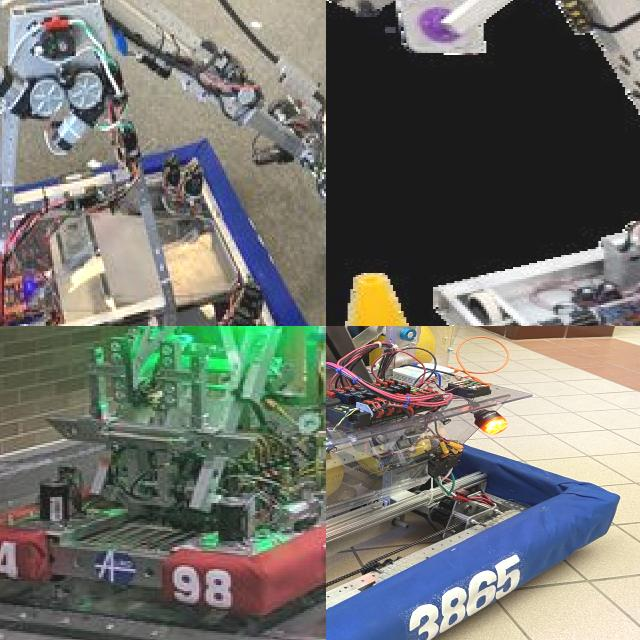FRC-Robots: (0, 0, 326, 326), (326, 326, 633, 640), (0, 326, 326, 617), (359, 0, 640, 326)
